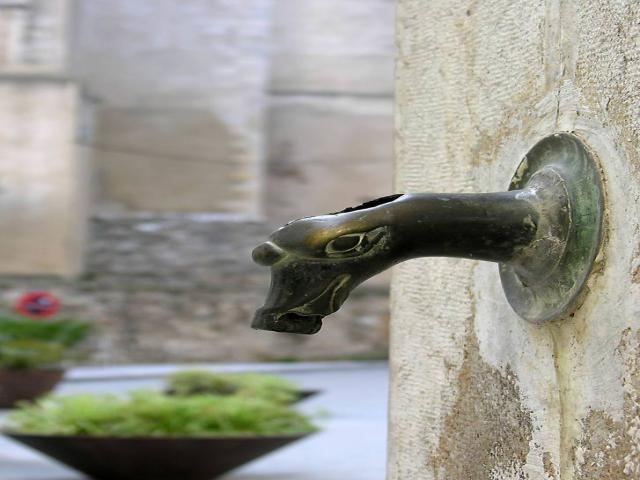Door-handle: (240, 128, 610, 342)
